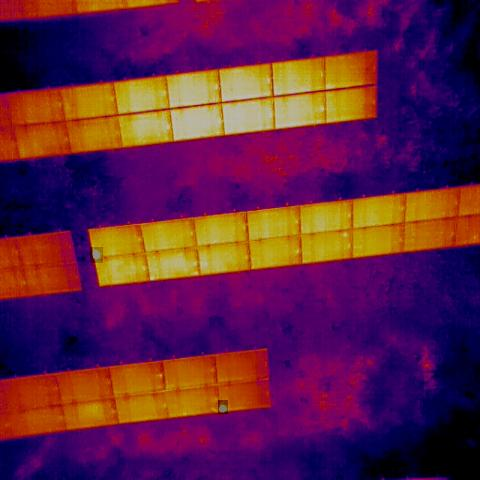fault: (90, 247, 103, 263), (218, 400, 228, 414)
